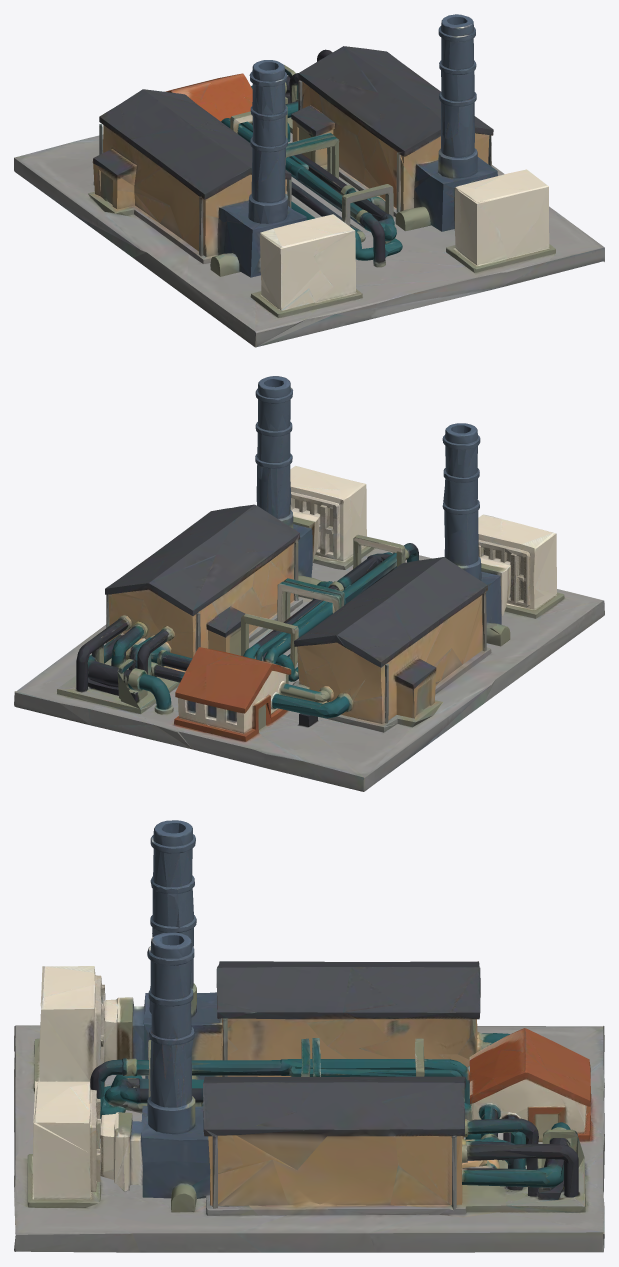
File: gasplant.glb
3 views of the same model, one above another, from view 1: azimuth 30°, elevation 25°; view 2: azimuth 150°, elevation 25°; view 3: azimuth 270°, elevation 25° (orthographic). The views are drawn at different scales.
Bounding box in the file's own units: 1.6 × 0.937 × 1.9.
Materials: 1 (1 with a texture image).
